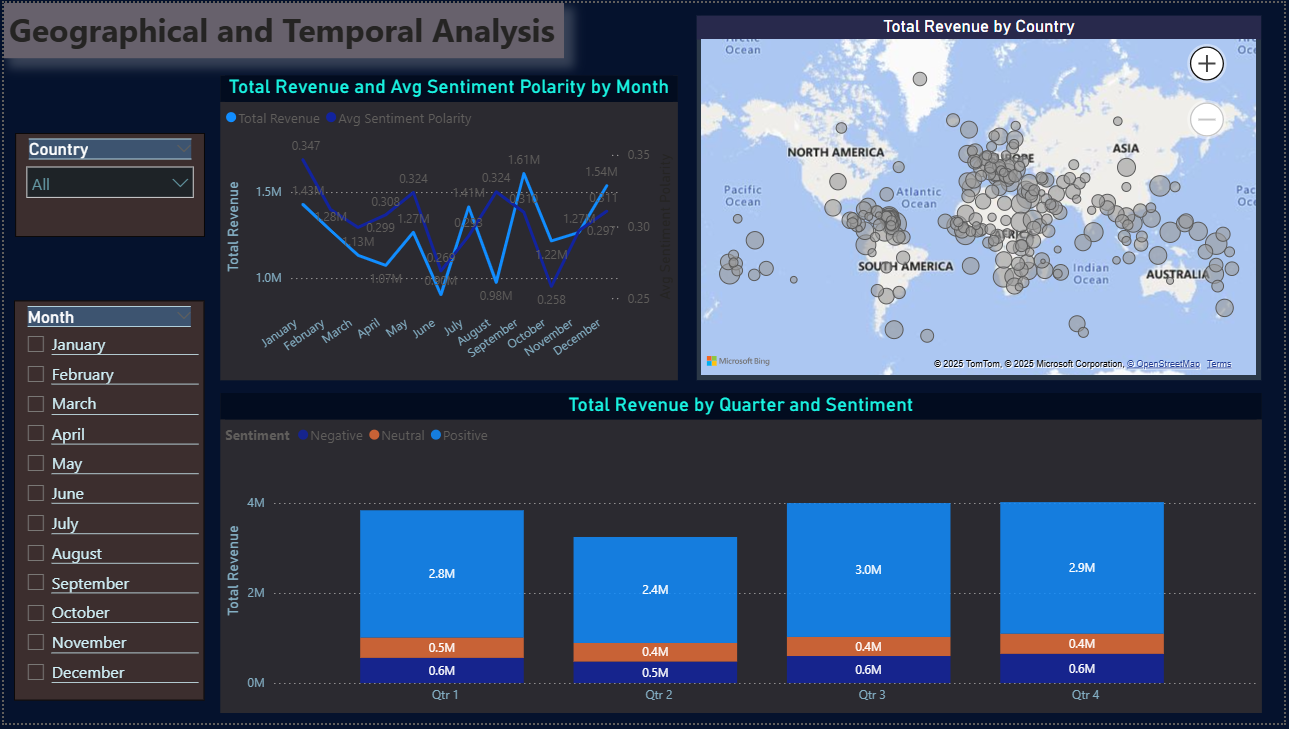

This screenshot's page, from the dashboard's own definition file:
{"tool":"powerbi","page":{"name":"Page 3","canvas":[1280,720],"ordinal":3},"visuals":[{"type":"textbox","box":[0,0,560,55],"z":0},{"type":"map","fields":{"Category":["merged_customer_sentiment_sales.Country"],"Size":["merged_customer_sentiment_sales.Total Revenue"]},"box":[692.5,12.5,565,365],"z":1000},{"type":"lineChart","fields":{"Category":["merged_customer_sentiment_sales.Month.Variation.Date Hierarchy.Month"],"Y":["merged_customer_sentiment_sales.Total Revenue"],"Y2":["merged_customer_sentiment_sales.Avg Sentiment Polarity"]},"box":[216.2,72.5,457.5,305],"z":2000},{"type":"columnChart","fields":{"Category":["merged_customer_sentiment_sales.Month.Variation.Date Hierarchy.Quarter"],"Y":["merged_customer_sentiment_sales.Total Revenue"],"Series":["merged_customer_sentiment_sales.Sentiment"]},"box":[216.2,390,1041.2,320],"z":3000},{"type":"slicer","fields":{"Values":["merged_customer_sentiment_sales.Country"]},"box":[11,129.6,189.5,103.9],"z":4000},{"type":"slicer","fields":{"Values":["merged_customer_sentiment_sales.Month.Variation.Date Hierarchy.Month"]},"box":[9.8,297.1,190.8,399.9],"z":5000}]}

Visuals, with their boxes in screenshot pixels (x1, y1, x2, y2), scaled from the page's 1280x720 canvas onto the 1289x729 screenshot:
textbox: 0, 0, 564, 56
map - merged_customer_sentiment_sales.Country x merged_customer_sentiment_sales.Total Revenue: 697, 13, 1266, 382
lineChart - merged_customer_sentiment_sales.Month.Variation.Date Hierarchy.Month x merged_customer_sentiment_sales.Total Revenue: 218, 73, 678, 382
columnChart - merged_customer_sentiment_sales.Month.Variation.Date Hierarchy.Quarter x merged_customer_sentiment_sales.Total Revenue: 218, 395, 1266, 719
slicer - merged_customer_sentiment_sales.Country: 11, 131, 202, 236
slicer - merged_customer_sentiment_sales.Month.Variation.Date Hierarchy.Month: 10, 301, 202, 706
